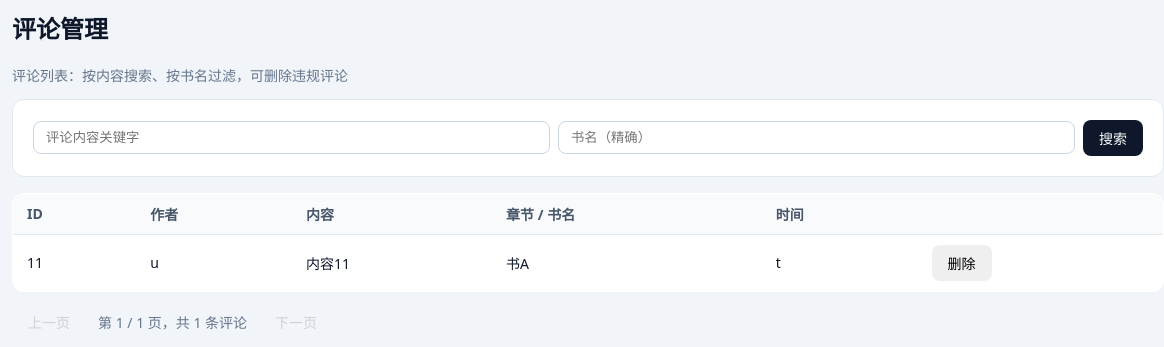
Test: Comments.vue › 删除走两步确认：第一次只点亮按钮，第二次才交 DELETE 并刷新列表
Click the button "删除" at (962, 263), box [932,245,992,281]
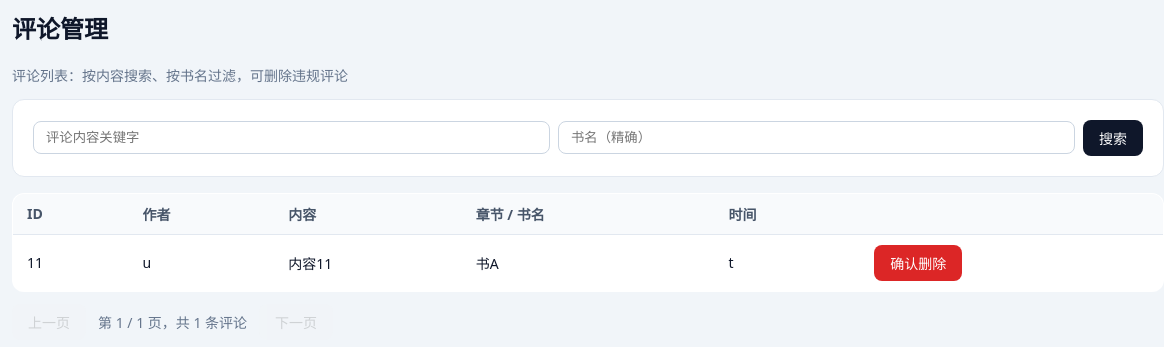
Expected: the button "确认删除" is shown
Click the button "确认删除" at (918, 263), box [874,245,962,281]
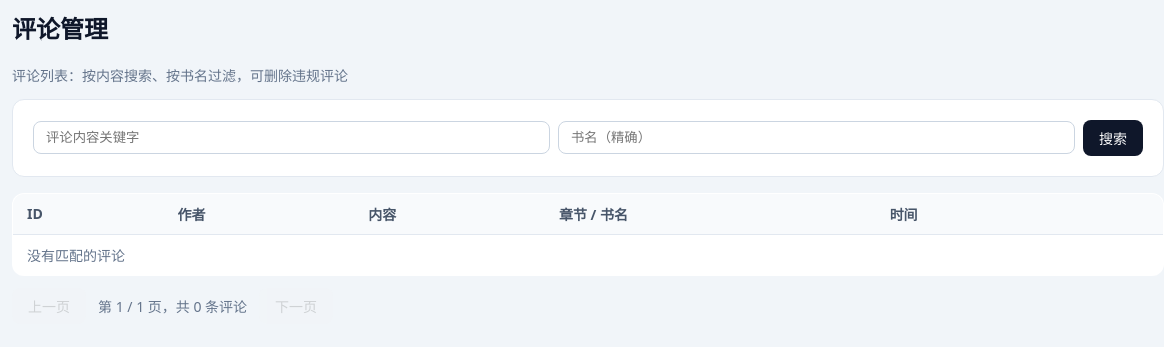
Expected: the text "没有匹配的评论" is shown, [12,234,1163,275]
